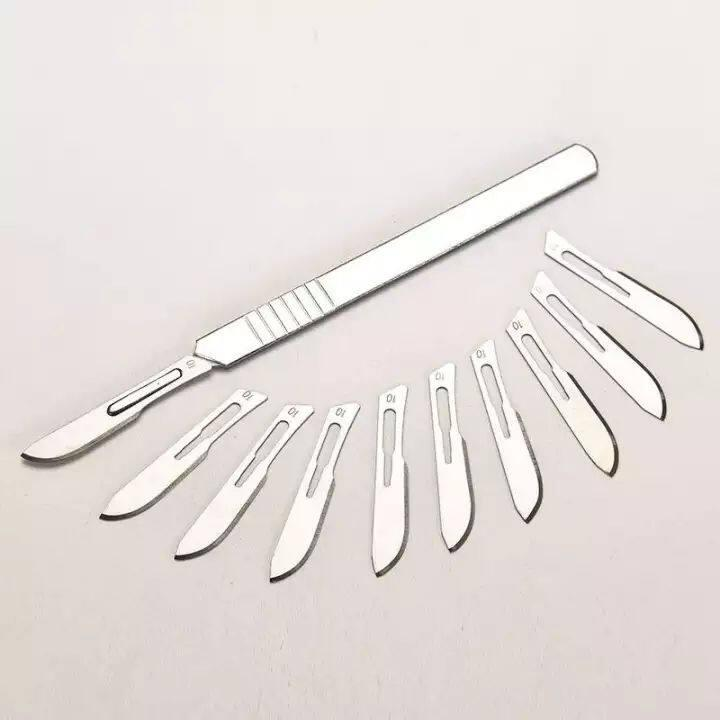Knife Blade: (11, 318, 222, 492), (103, 379, 282, 534), (519, 269, 688, 427), (168, 389, 314, 569), (542, 221, 719, 362), (499, 302, 630, 477), (410, 349, 501, 552), (268, 400, 358, 583), (467, 343, 556, 524), (364, 379, 424, 582)
